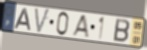0: (56, 12, 70, 37)
1: (97, 16, 107, 43)
A: (70, 14, 90, 38), (13, 8, 32, 32)
B: (112, 17, 131, 44)
V: (34, 8, 51, 36)
